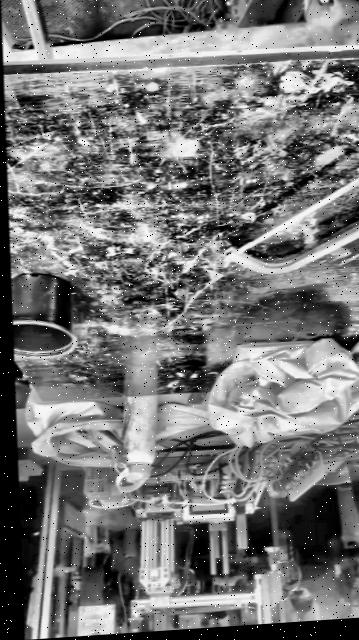pot: (10, 272, 77, 360)
